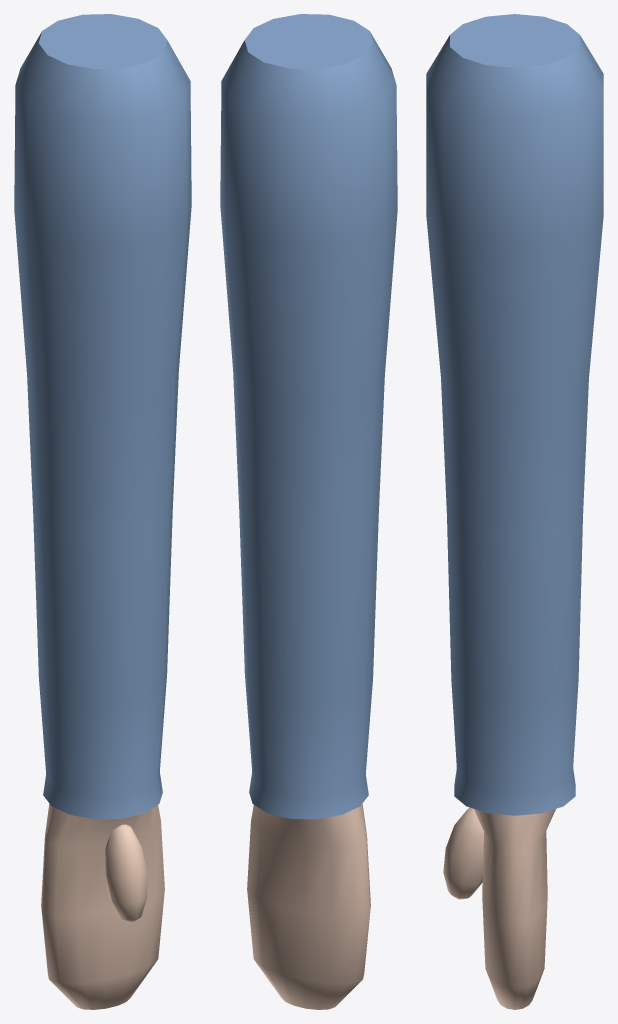
The model's file is Char_Arm.fbx.
The picture shows the model from 3 angles, left to right: view 1: azimuth 30°, elevation 25°; view 2: azimuth 150°, elevation 25°; view 3: azimuth 270°, elevation 25°; orthographic projection.
Visible parts, largest first — view 1: Char_Arm; view 2: Char_Arm; view 3: Char_Arm.
Part boxes in pixels (x1,y1,x2,y2): Char_Arm: [14, 14, 191, 1009]; Char_Arm: [220, 14, 397, 1009]; Char_Arm: [426, 14, 603, 1009].
Bounding box in the file's own units: 0.116 × 0.7 × 0.117.
